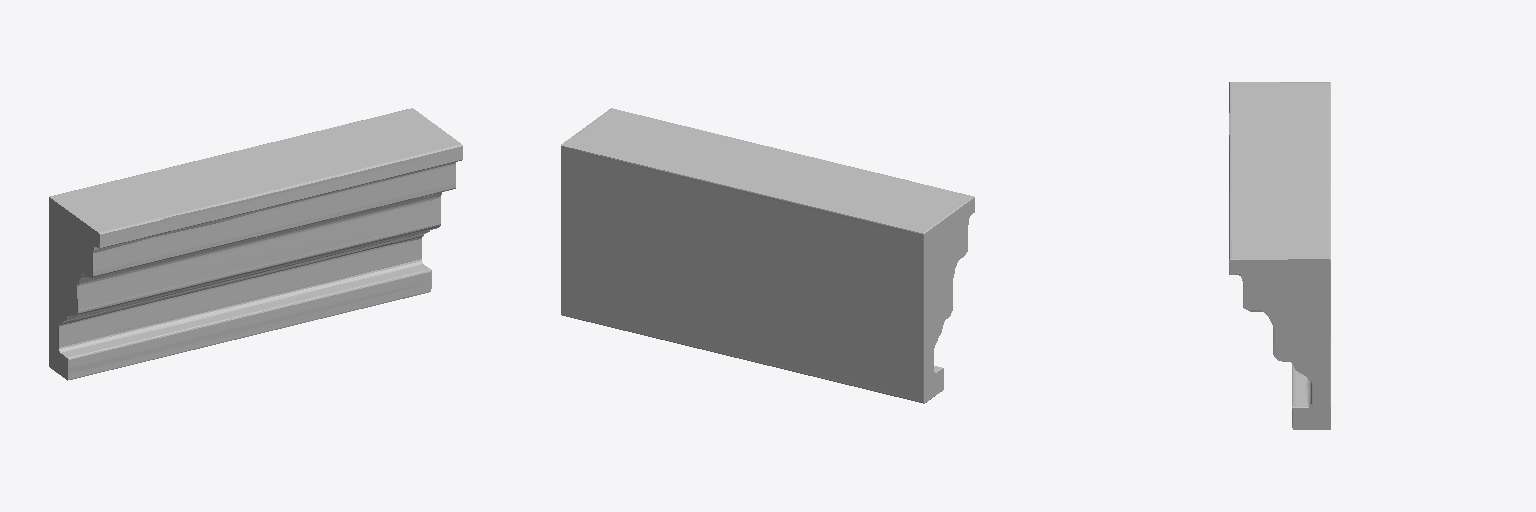
The model's file is trimflat.obj.
3 views of the same model, side by side, from view 1: azimuth 30°, elevation 25°; view 2: azimuth 150°, elevation 25°; view 3: azimuth 270°, elevation 25° (orthographic).
Visible parts, largest first — view 1: trimflat; view 2: trimflat; view 3: trimflat.
Boxes of the visible parts, x1=… form: trimflat: x1=49, y1=108, x2=462, y2=380; trimflat: x1=561, y1=108, x2=974, y2=403; trimflat: x1=1229, y1=82, x2=1330, y2=429.
Bounding box in the file's own units: 4.53 × 2.03 × 1.1.